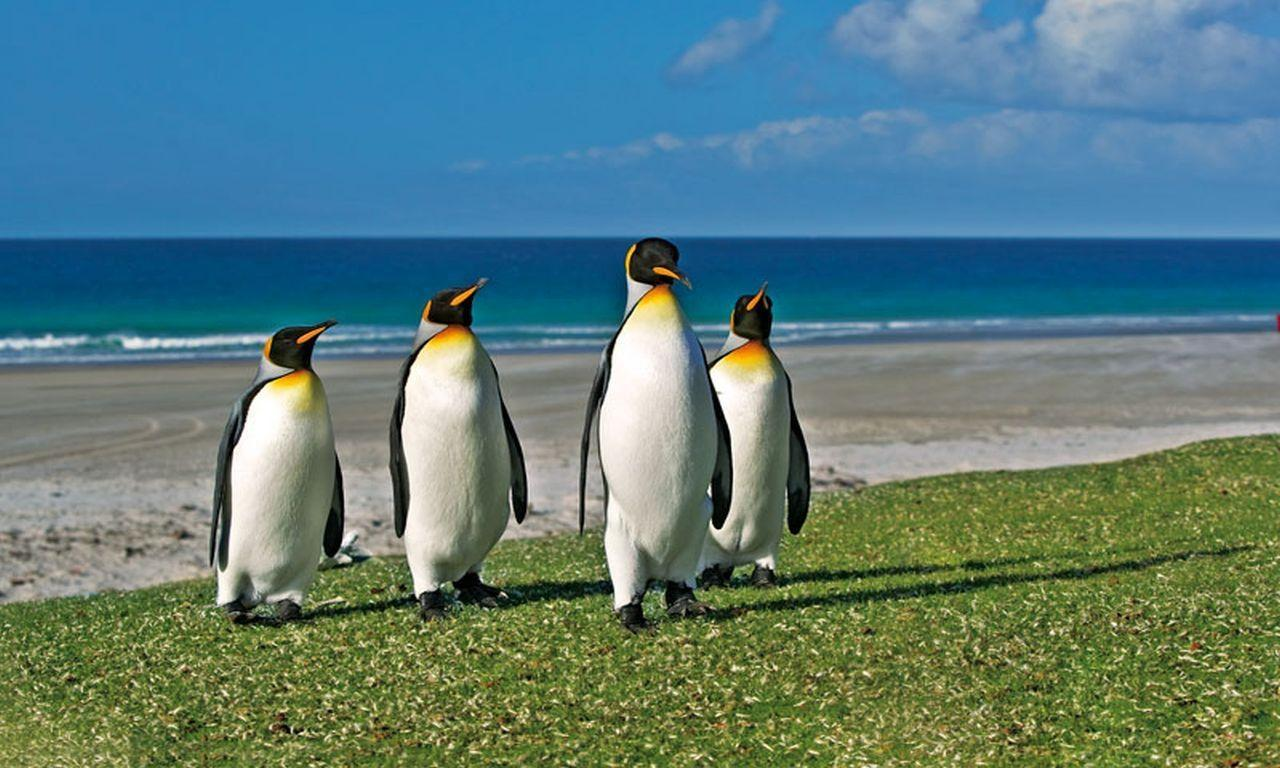Penguin: (580, 238, 732, 631), (390, 280, 527, 620), (210, 320, 345, 622), (696, 283, 809, 590)
